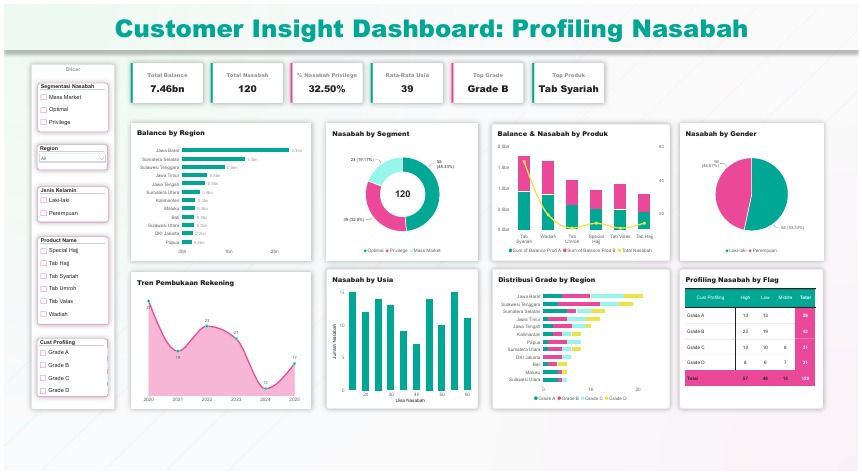

This screenshot's page, from the dashboard's own definition file:
{"tool":"powerbi","page":{"name":"Page 1","canvas":[2560,1400],"ordinal":0},"visuals":[{"type":"shape","title":"Slicer","box":[80,182,248,1032],"z":0},{"type":"cardVisual","title":"Total Balance","fields":{"Data":["Sum(Dataset.Total Balance)"]},"box":[380.7,178,213.3,118.3],"z":1000},{"type":"barChart","title":"Balance by Region","fields":{"Category":["Dataset.Region"],"Y":["Sum(Dataset.Total Balance)"]},"box":[380,358,540,412],"z":2000},{"type":"donutChart","title":"Nasabah by Segment","fields":{"Category":["Dataset.Cust Segment"],"Y":["Dataset.Total Nasabah"]},"box":[965.7,358.6,455.7,411.4],"z":3000},{"type":"lineStackedColumnComboChart","title":"Balance & Nasabah by Produk","fields":{"Category":["Dataset.Product Name"],"Y":["Sum(Dataset.Balance Prod A)","Sum(Dataset.Balance Prod B)"],"Y2":["Dataset.Total Nasabah"]},"box":[1461.4,360,534.3,410],"z":4000},{"type":"pieChart","title":"Nasabah by Gender","fields":{"Category":["Dataset.Jenis Kelamin"],"Y":["Dataset.Total Nasabah"]},"box":[2025.7,358.6,430,411.4],"z":5000},{"type":"lineChart","title":"Tren Pembukaan Rekening","fields":{"Y":["Dataset.Total Nasabah"],"Category":["Dataset.Date_Acc_Open.Variation.Date Hierarchy.Year"]},"box":[380,805,540,408.3],"z":6000},{"type":"columnChart","title":"Nasabah by Usia","fields":{"Y":["Dataset.Total Nasabah"],"Category":["Dataset.Usia (bins)"]},"box":[965,795,455,418.3],"z":7000},{"type":"pivotTable","title":"Profiling Nasabah by Flag","fields":{"Rows":["Dataset.Cust Profiling"],"Columns":["Dataset.Flag"],"Values":["Dataset.Total Nasabah"]},"box":[2025,795,430,418.3],"z":8000},{"type":"barChart","title":"Distribusi Grade by Region","fields":{"Category":["Dataset.Region"],"Series":["Dataset.Cust Profiling"],"Y":["Dataset.Total Nasabah"]},"box":[1463.3,795,531.7,418.3],"z":9000},{"type":"slicer","fields":{"Values":["Dataset.Jenis Kelamin"]},"box":[98,548,212,106],"z":10000},{"type":"slicer","fields":{"Values":["Dataset.Region"]},"box":[96,422,212.9,75.7],"z":11000},{"type":"slicer","fields":{"Values":["Dataset.Cust Segment"]},"box":[97.5,237.5,212.5,146.2],"z":12000},{"type":"slicer","fields":{"Values":["Dataset.Product Name"]},"box":[98,698,212.5,263.8],"z":13000},{"type":"slicer","fields":{"Values":["Dataset.Cust Profiling"]},"box":[96,1004,212.9,174.3],"z":14000},{"type":"shape","box":[274,176.9,213.3,118.9],"z":15000},{"type":"cardVisual","title":"Total Balance","fields":{"Data":["Dataset.Total Nasabah"]},"box":[620.7,178,213.3,118.3],"z":16000},{"type":"shape","box":[514,176.9,213.3,118.9],"z":17000},{"type":"cardVisual","title":"Total Balance","fields":{"Data":["Dataset.% Nasabah Privilege"]},"box":[859.6,178,213.3,118.3],"z":18000},{"type":"shape","box":[752.9,176.9,213.3,118.9],"z":19000},{"type":"cardVisual","title":"Total Balance","fields":{"Data":["Avg(Dataset.Usia)"]},"box":[1100.7,178,213.3,118.3],"z":20000},{"type":"shape","box":[994,176.9,213.3,118.9],"z":21000},{"type":"cardVisual","title":"Total Balance","fields":{"Data":["Dataset.Grade Terbanyak"]},"box":[1342.9,178,213.3,118.3],"z":22000},{"type":"shape","box":[1236.2,176.9,213.3,118.9],"z":23000},{"type":"cardVisual","title":"Total Balance","fields":{"Data":["Dataset.Produk Terlaris"]},"box":[1585.1,178,213.3,118.3],"z":24000},{"type":"shape","box":[1478.4,176.9,213.3,118.9],"z":25000},{"type":"shape","box":[0,0,2560,140],"z":27000}]}

Visuals, with their boxes in screenshot pixels (x1, y1, x2, y2), scaled from the page's 2560x1400 canvas onto the 862x472 screenshot:
"Slicer" shape: box(27, 61, 110, 409)
"Total Balance" cardVisual: box(128, 60, 200, 100)
"Balance by Region" barChart: box(128, 121, 310, 260)
"Nasabah by Segment" donutChart: box(325, 121, 479, 260)
"Balance & Nasabah by Produk" lineStackedColumnComboChart: box(492, 121, 672, 260)
"Nasabah by Gender" pieChart: box(682, 121, 827, 260)
"Tren Pembukaan Rekening" lineChart: box(128, 271, 310, 409)
"Nasabah by Usia" columnChart: box(325, 268, 478, 409)
"Profiling Nasabah by Flag" pivotTable: box(682, 268, 827, 409)
"Distribusi Grade by Region" barChart: box(493, 268, 672, 409)
slicer - Dataset.Jenis Kelamin: box(33, 185, 104, 220)
slicer - Dataset.Region: box(32, 142, 104, 168)
slicer - Dataset.Cust Segment: box(33, 80, 104, 129)
slicer - Dataset.Product Name: box(33, 235, 105, 324)
slicer - Dataset.Cust Profiling: box(32, 338, 104, 397)
shape: box(92, 60, 164, 100)
"Total Balance" cardVisual: box(209, 60, 281, 100)
shape: box(173, 60, 245, 100)
"Total Balance" cardVisual: box(289, 60, 361, 100)
shape: box(254, 60, 325, 100)
"Total Balance" cardVisual: box(371, 60, 442, 100)
shape: box(335, 60, 407, 100)
"Total Balance" cardVisual: box(452, 60, 524, 100)
shape: box(416, 60, 488, 100)
"Total Balance" cardVisual: box(534, 60, 606, 100)
shape: box(498, 60, 570, 100)
shape: box(0, 0, 861, 47)
